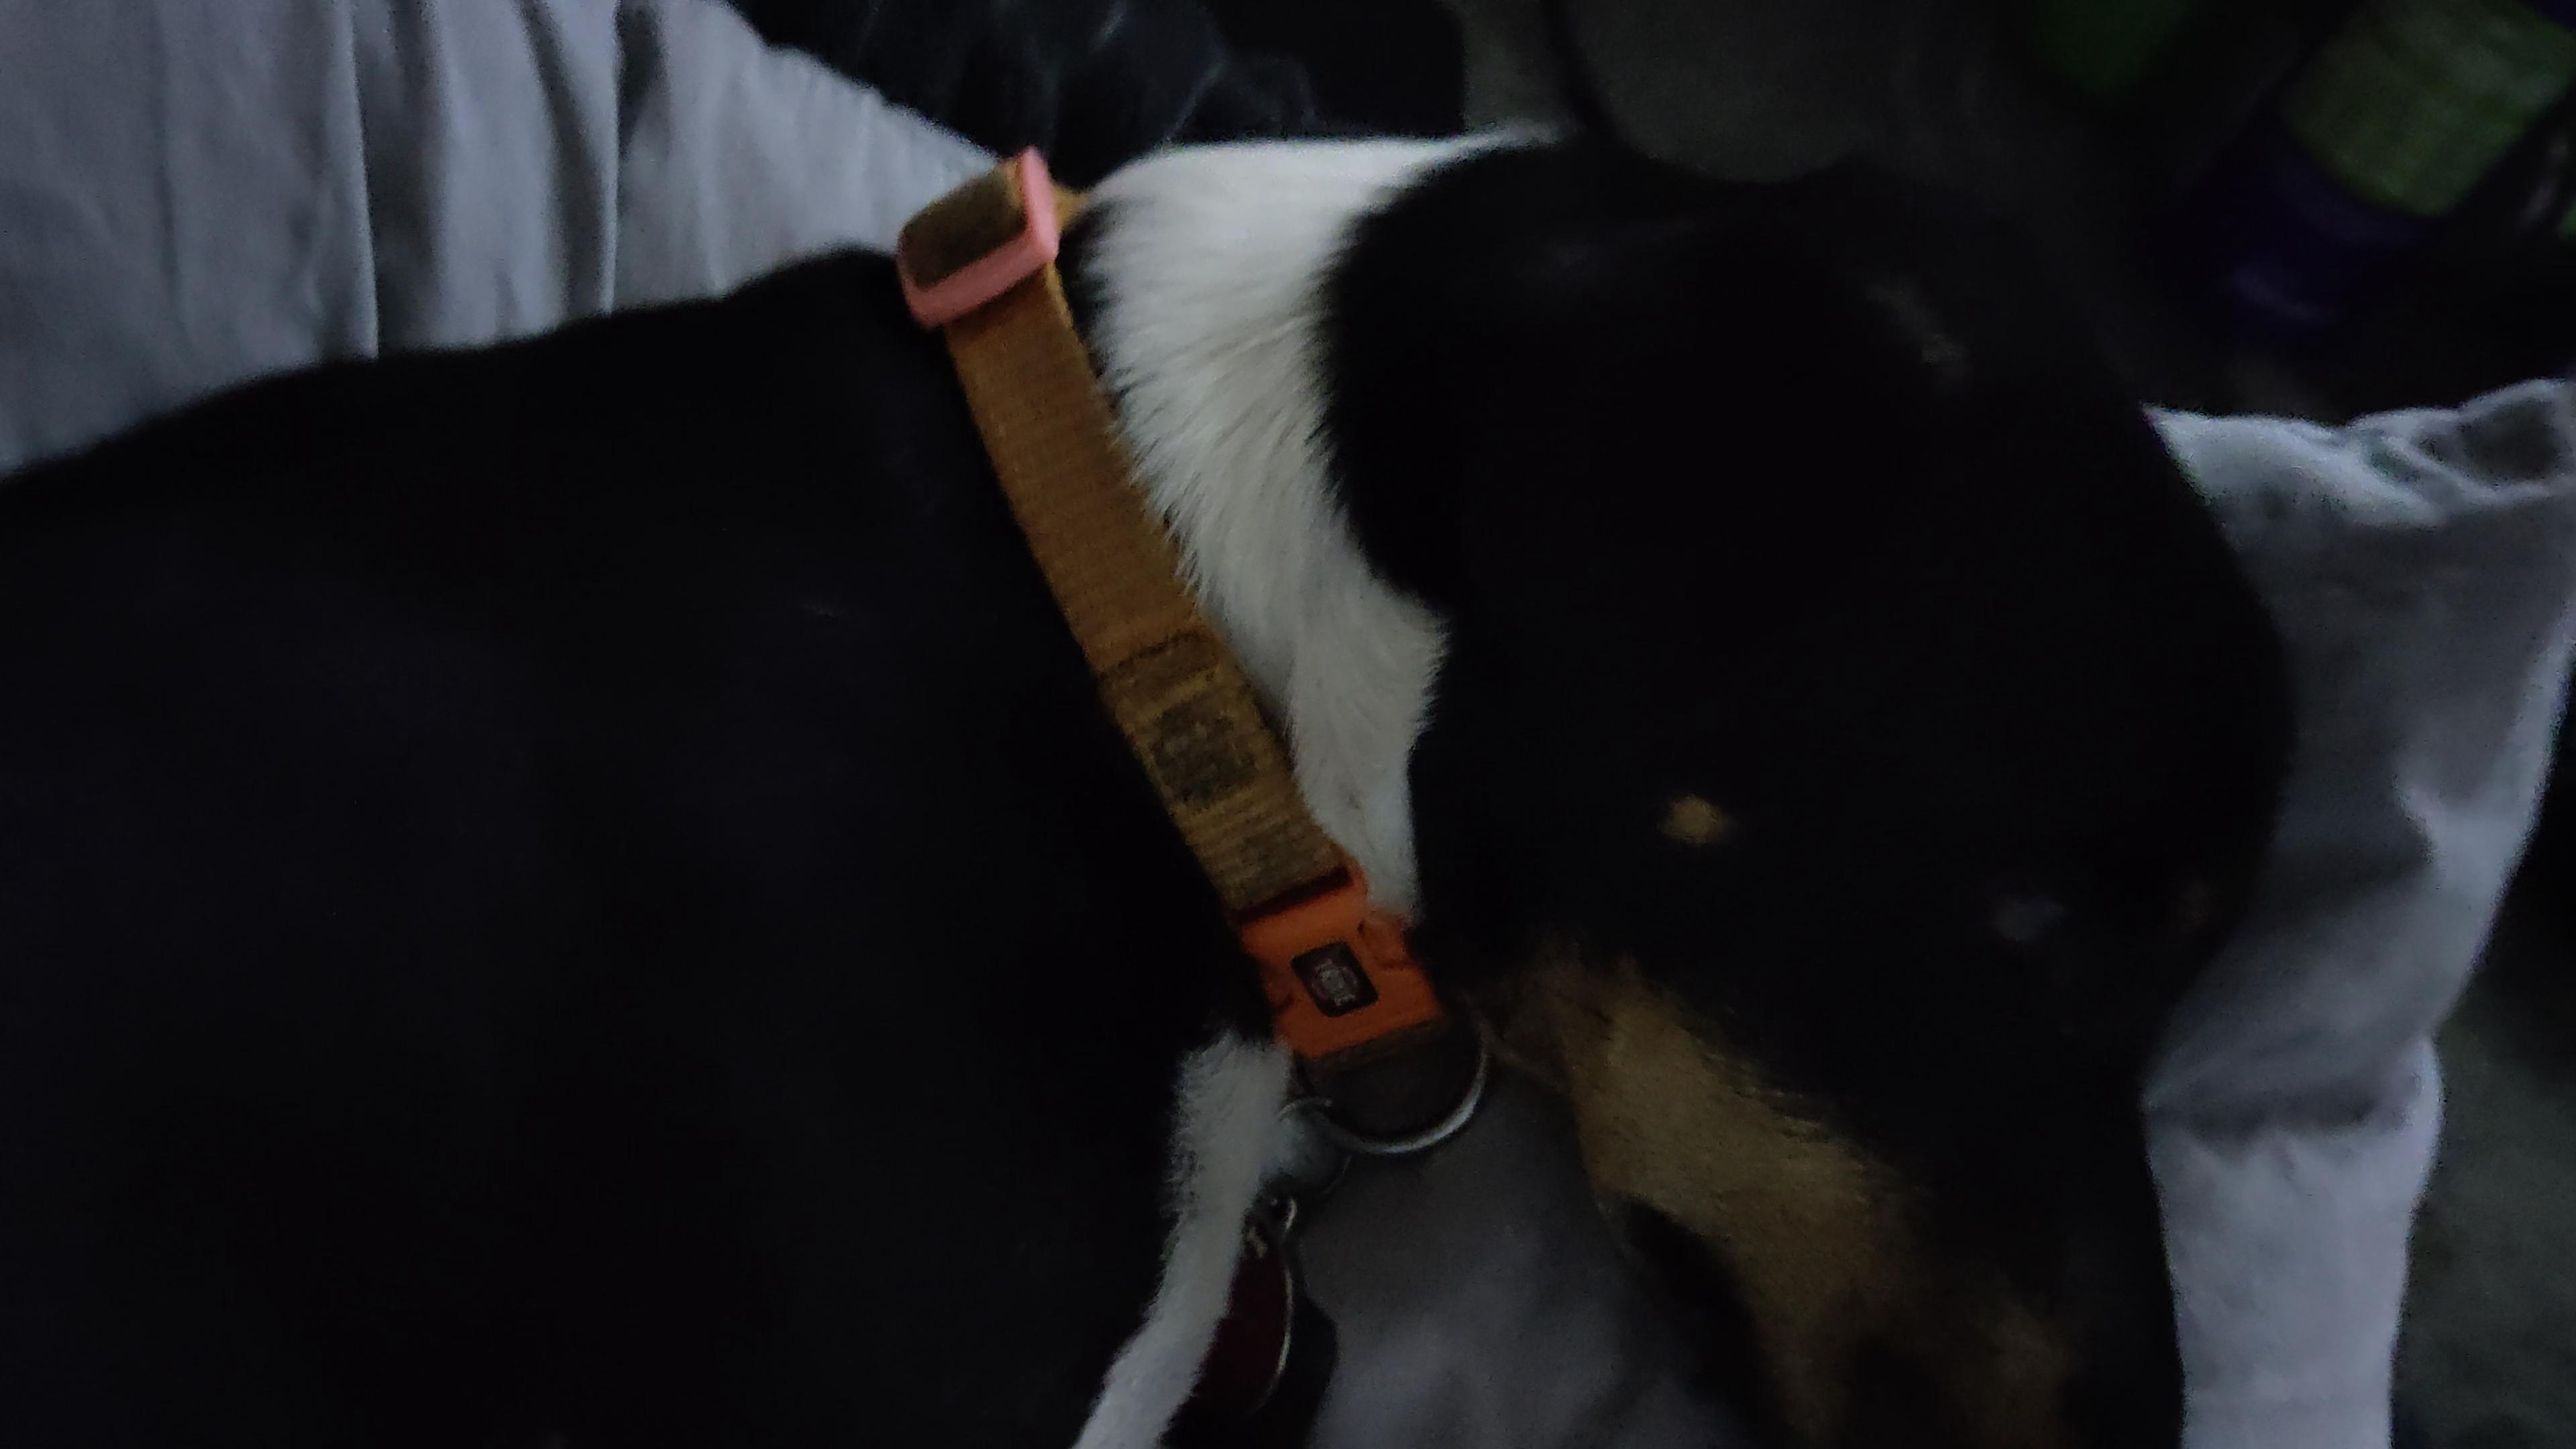Dog: (0, 106, 2321, 1449)
